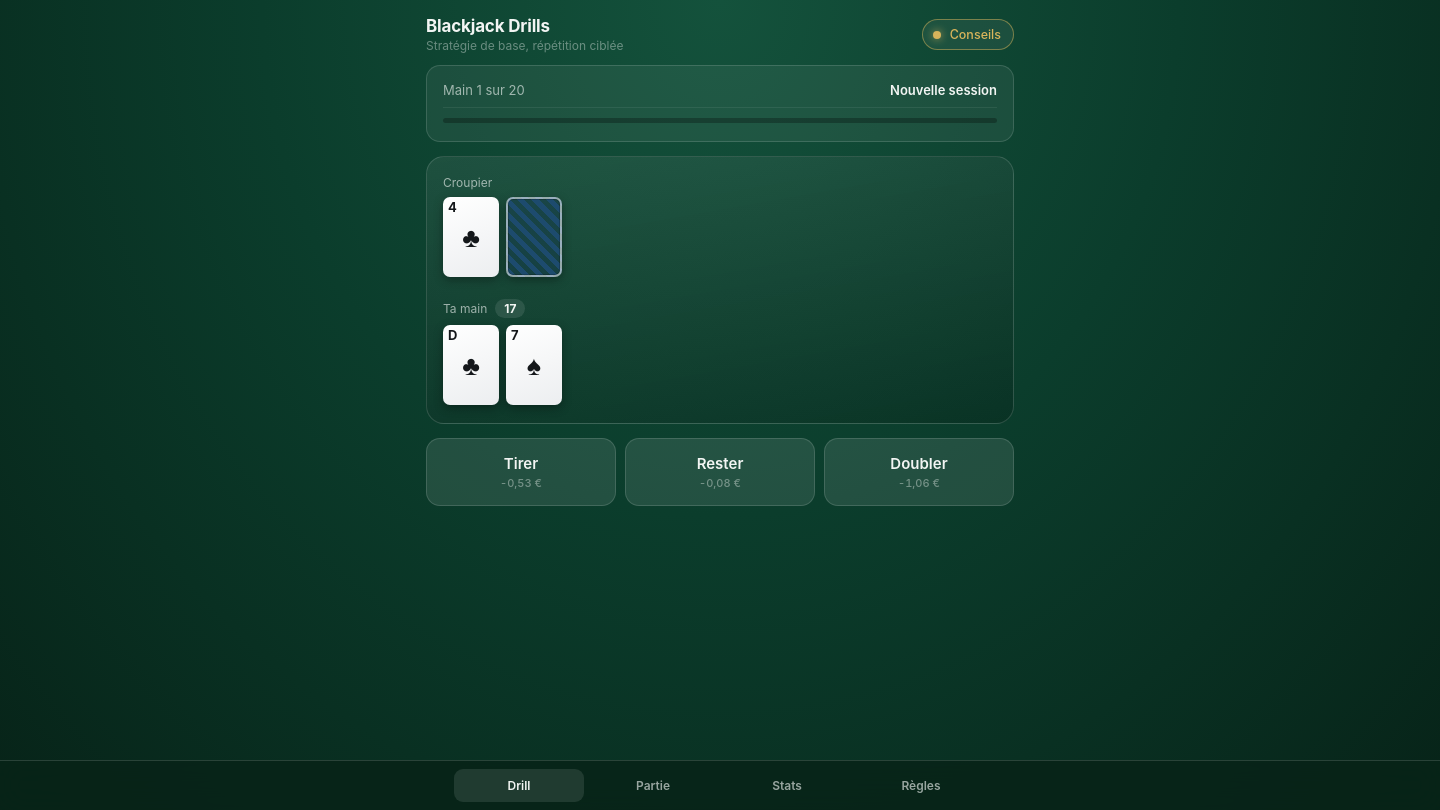
toggle des conseils › explique immédiatement quand l’aide est active
The image size is (1440, 810).
Click the button "Tirer -0,53 €": (521, 472) left=426, top=438, right=616, bottom=506
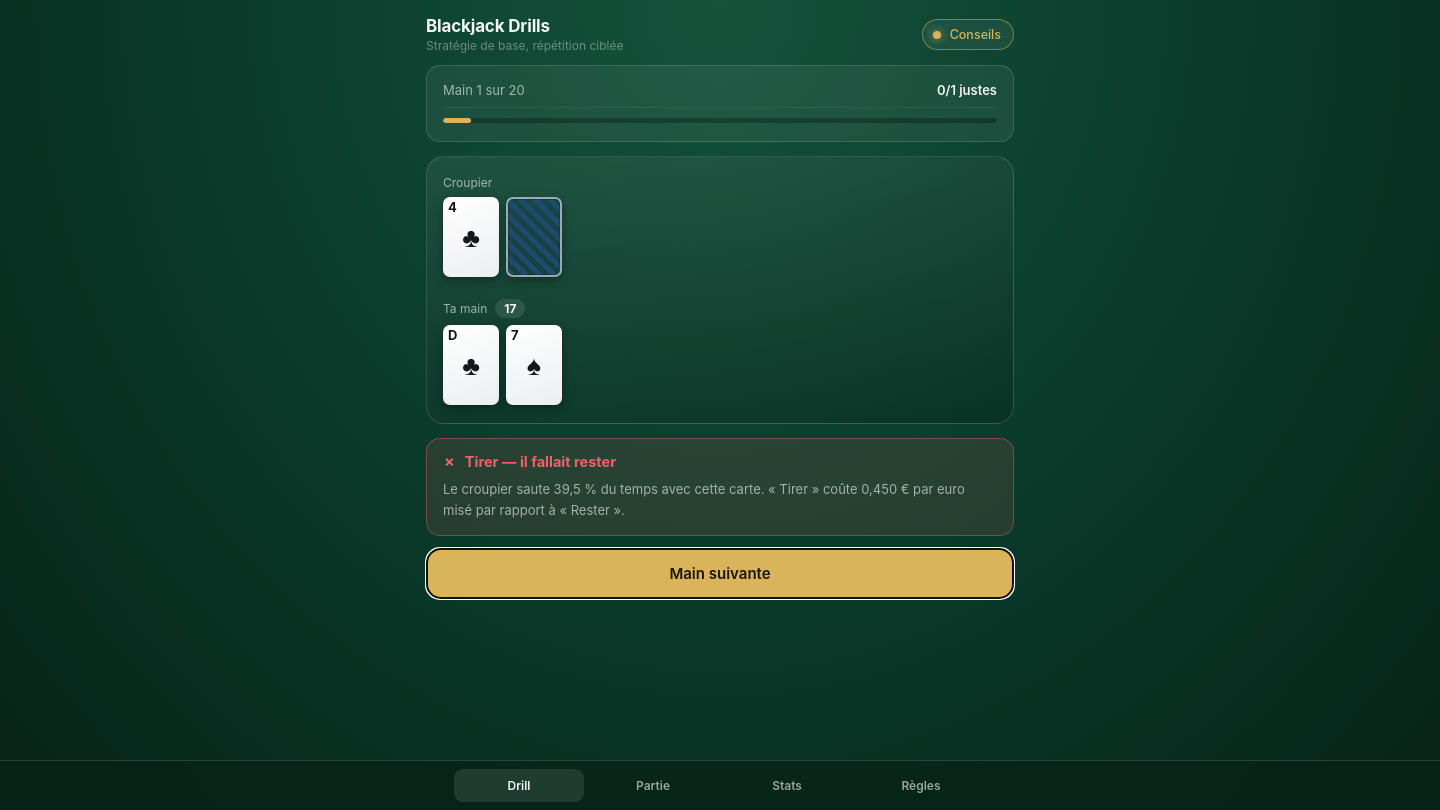
Expected: the text with class "why" shows "croupier", left=443, top=481, right=965, bottom=518
